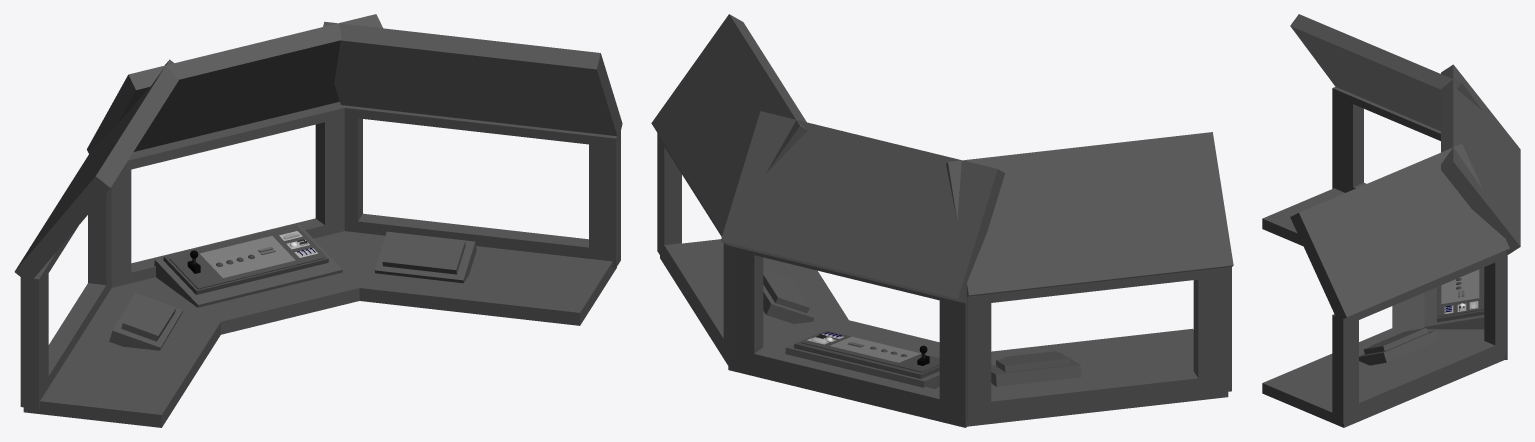
File: player.obj
The picture shows the model from 3 angles, left to right: view 1: azimuth 30°, elevation 25°; view 2: azimuth 150°, elevation 25°; view 3: azimuth 270°, elevation 25°; orthographic projection. The views are drawn at different scales.
Visible parts, largest first — view 1: 平面.005; view 2: 平面.005; view 3: 平面.005.
Part boxes in pixels (left/top/right/bottom): 平面.005: left=14, top=14, right=622, bottom=427; 平面.005: left=651, top=14, right=1233, bottom=427; 平面.005: left=1262, top=14, right=1520, bottom=427.
Size of the model in its own units: 14.72 by 5.69 by 6.72.
